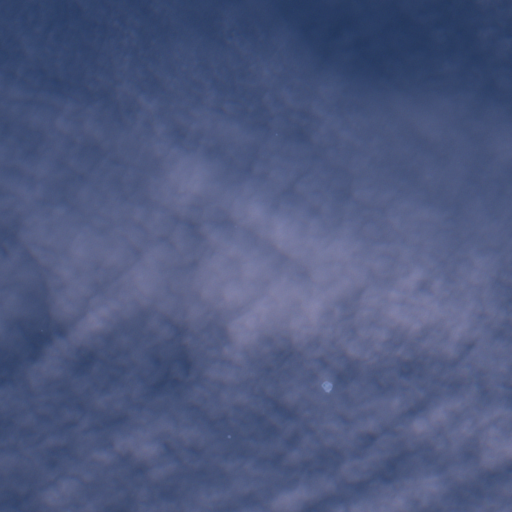Iceberg: (322, 381, 332, 392), (228, 435, 230, 437)
